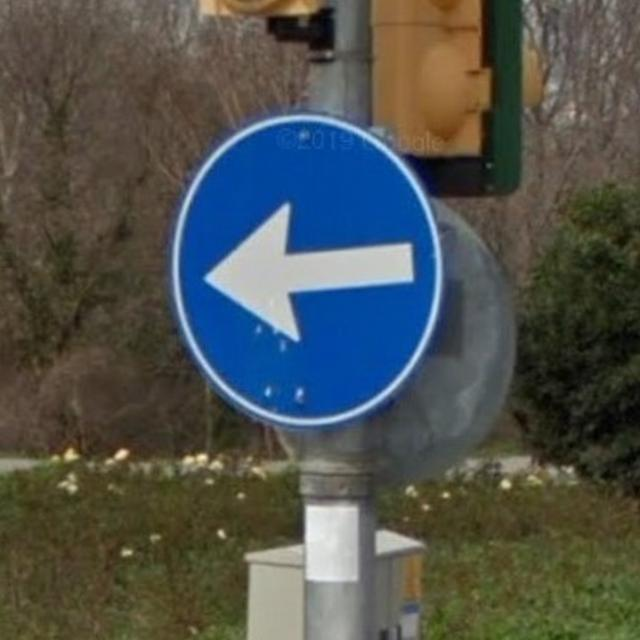Turn Left: (167, 118, 456, 426)
